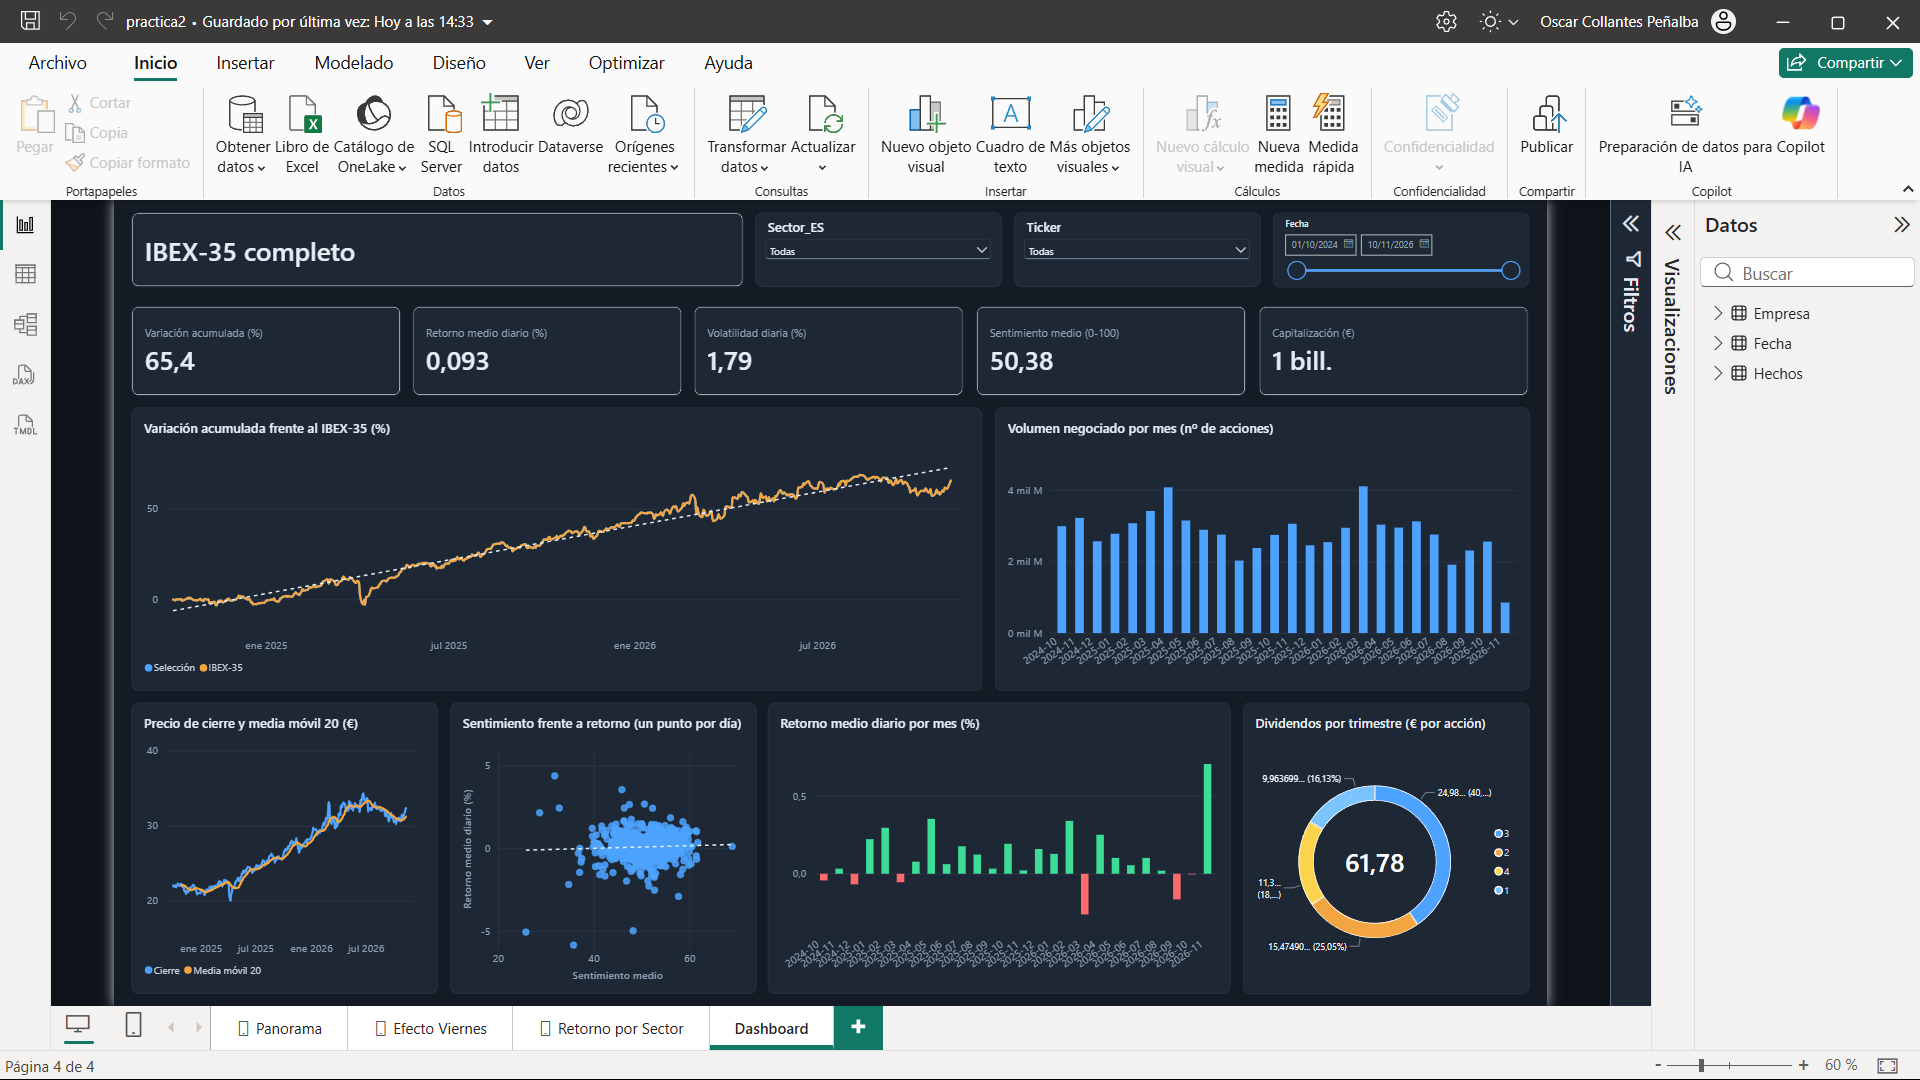

Layout of this report page (visuals, bound fields, positions):
{"tool":"powerbi","page":{"name":"Dashboard","canvas":[1920,1080],"ordinal":3},"visuals":[{"type":"slicer","fields":{"Values":["Empresa.Sector_ES"]},"box":[753.5,31.4,280.8,68],"z":0},{"type":"slicer","fields":{"Values":["Empresa.Ticker"]},"box":[1055.2,26.2,280.8,80.2],"z":1000},{"type":"slicer","fields":{"Values":["Fecha.Fecha"]},"box":[1360.5,19.2,280.8,95.9],"z":2000},{"type":"cardVisual","fields":{"Data":["Hechos.Variacion Acumulada"]},"box":[36.6,115.1,218,174.4],"z":3000},{"type":"cardVisual","fields":{"Data":["Hechos.Retorno Medio Diario"]},"box":[375,115.1,218,174.4],"z":4000},{"type":"cardVisual","fields":{"Data":["Hechos.Volatilidad Diaria"]},"box":[741.3,115.1,218,174.4],"z":5000},{"type":"cardVisual","fields":{"Data":["Hechos.Sentimiento Medio"]},"box":[1088.4,115.1,218,174.4],"z":6000},{"type":"cardVisual","fields":{"Data":["Hechos.Capitalizacion Total"]},"box":[1447.7,115.1,218,174.4],"z":7000},{"type":"lineChart","fields":{"Category":["Fecha.Fecha"],"Y":["Hechos.Var Acum Seleccion","Hechos.Var Acum IBEX"]},"box":[43.6,314,1058.7,376.7],"z":8000},{"type":"clusteredColumnChart","fields":{"Category":["Fecha.AnioMes"],"Y":["Sum(Hechos.Volume)"]},"box":[1133.7,314,736,376.7],"z":9000},{"type":"lineChart","fields":{"Category":["Fecha.Fecha"],"Y":["Avg(Hechos.Close)","Avg(Hechos.Media_Movil_20)"]},"box":[66.3,711.6,395.9,322.7],"z":10000},{"type":"scatterChart","fields":{"Category":["Fecha.Fecha"],"X":["Hechos.Sentimiento Medio"],"Y":["Hechos.Retorno Medio Diario"]},"box":[462.2,711.6,444.8,322.7],"z":11000},{"type":"clusteredColumnChart","fields":{"Category":["Fecha.AnioMes"],"Y":["Hechos.Retorno Medio Diario"]},"box":[907,711.6,610.5,322.7],"z":12000},{"type":"donutChart","fields":{"Category":["Fecha.Trimestre"],"Y":["Sum(Hechos.Dividends)"]},"box":[1517.4,711.6,385.5,322.7],"z":13000},{"type":"cardVisual","fields":{"Data":["Hechos.Titulo Dashboard"]},"box":[66.3,19.2,556.4,75],"z":13001}]}

Visuals, with their boxes on the page's 1920x1080 design canvas (x1, y1, x2, y2). These are canvas units, not pixel positions in the 1920x1080 screenshot, which may show the page scaled, cropped or inside an application window:
slicer - Empresa.Sector_ES: Rect(754, 31, 1034, 99)
slicer - Empresa.Ticker: Rect(1055, 26, 1336, 106)
slicer - Fecha.Fecha: Rect(1360, 19, 1641, 115)
cardVisual - Hechos.Variacion Acumulada: Rect(37, 115, 255, 290)
cardVisual - Hechos.Retorno Medio Diario: Rect(375, 115, 593, 290)
cardVisual - Hechos.Volatilidad Diaria: Rect(741, 115, 959, 290)
cardVisual - Hechos.Sentimiento Medio: Rect(1088, 115, 1306, 290)
cardVisual - Hechos.Capitalizacion Total: Rect(1448, 115, 1666, 290)
lineChart - Fecha.Fecha x Hechos.Var Acum Seleccion: Rect(44, 314, 1102, 691)
clusteredColumnChart - Fecha.AnioMes x Sum(Hechos.Volume): Rect(1134, 314, 1870, 691)
lineChart - Fecha.Fecha x Avg(Hechos.Close): Rect(66, 712, 462, 1034)
scatterChart - Fecha.Fecha x Hechos.Sentimiento Medio: Rect(462, 712, 907, 1034)
clusteredColumnChart - Fecha.AnioMes x Hechos.Retorno Medio Diario: Rect(907, 712, 1518, 1034)
donutChart - Fecha.Trimestre x Sum(Hechos.Dividends): Rect(1517, 712, 1903, 1034)
cardVisual - Hechos.Titulo Dashboard: Rect(66, 19, 623, 94)
